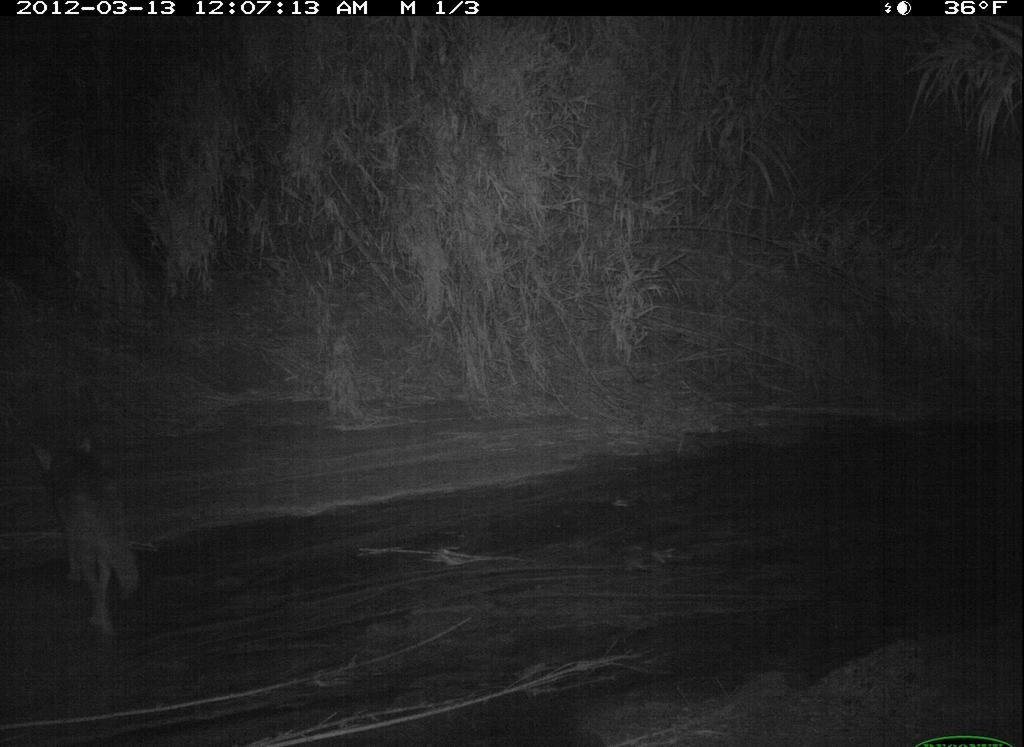coyote: (24, 433, 152, 648)
